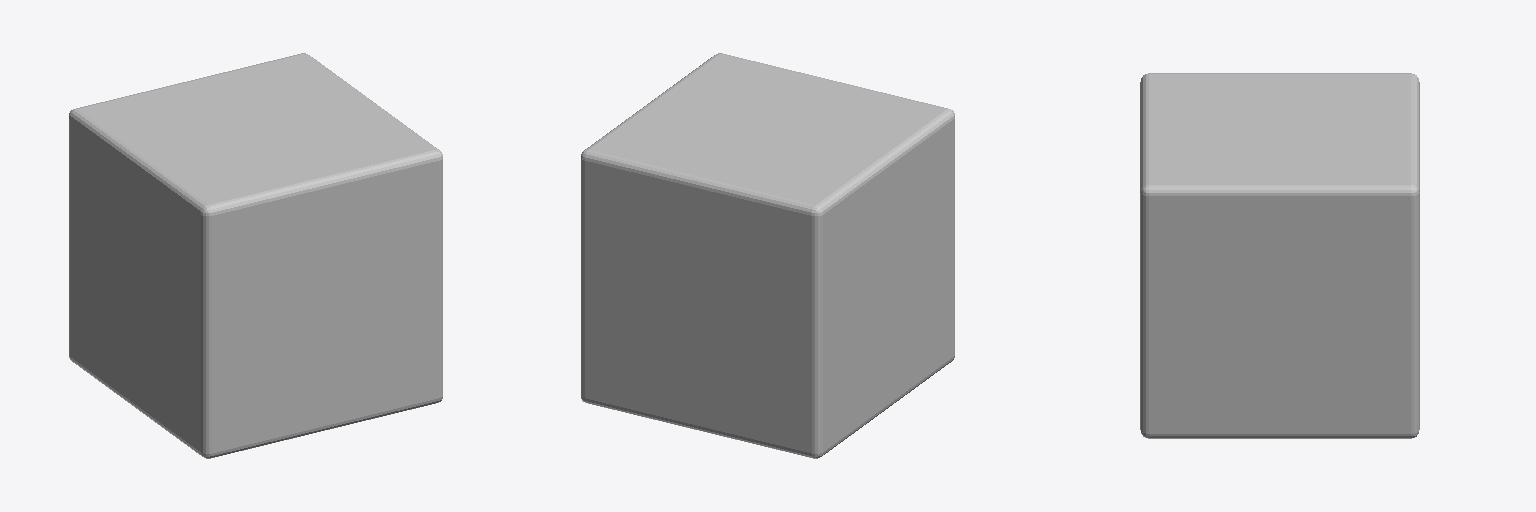
Rendered from sitting_cube.obj.
3 renders of one model, left to right at view 1: azimuth 30°, elevation 25°; view 2: azimuth 150°, elevation 25°; view 3: azimuth 270°, elevation 25°, orthographic.
Visible parts, largest first — view 1: Cube; view 2: Cube; view 3: Cube.
Boxes of the visible parts, x1=… form: Cube: x1=69, y1=53, x2=442, y2=458; Cube: x1=581, y1=53, x2=954, y2=458; Cube: x1=1140, y1=73, x2=1419, y2=438.
Bounding box in the file's own units: 2 × 2 × 2.